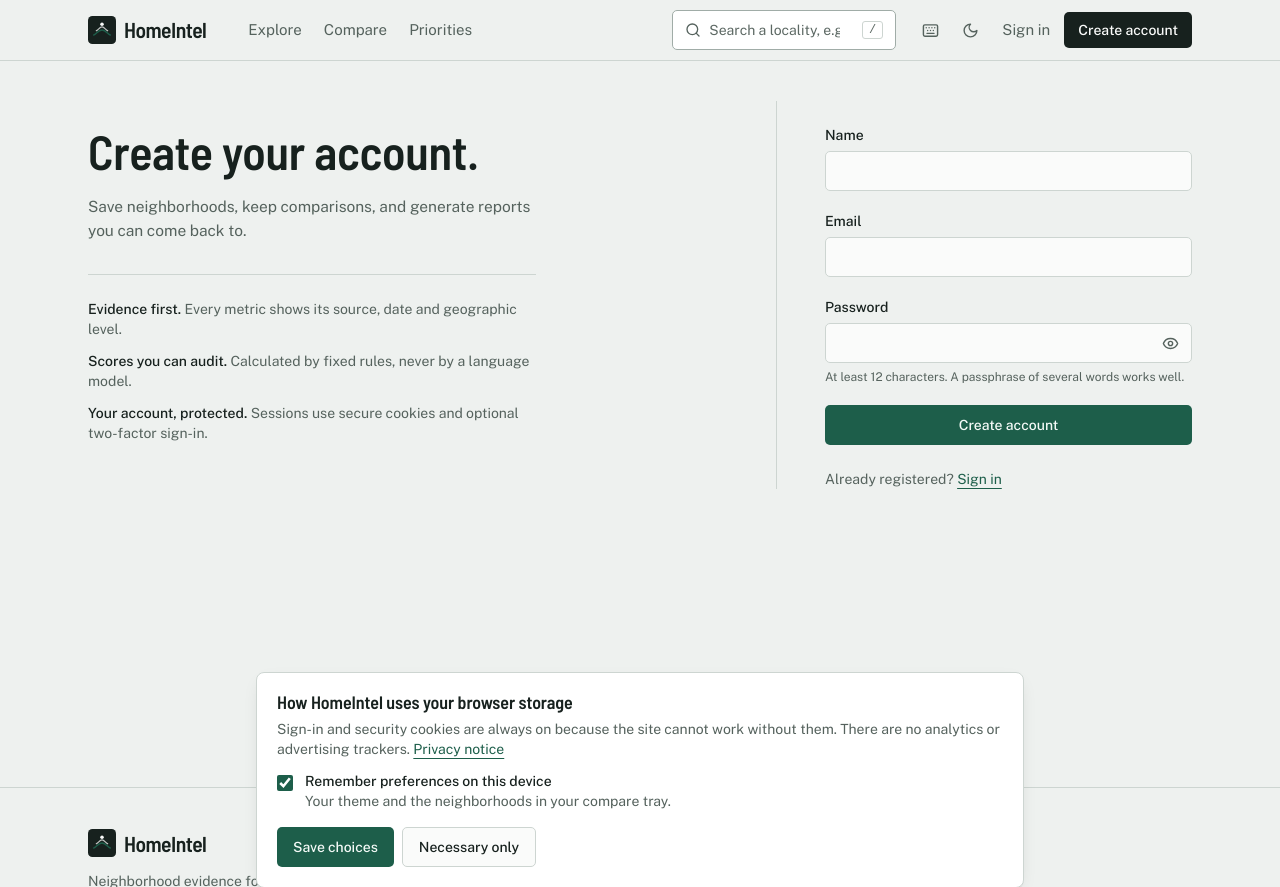
Test: routing › /register renders its form and links to /login within the page
expect the form named "create account" is shown: met, box [825,125,1192,445]
Click the link "Sign in" next to "Already registered?": coordinates (979, 479) [957,471,1002,487]
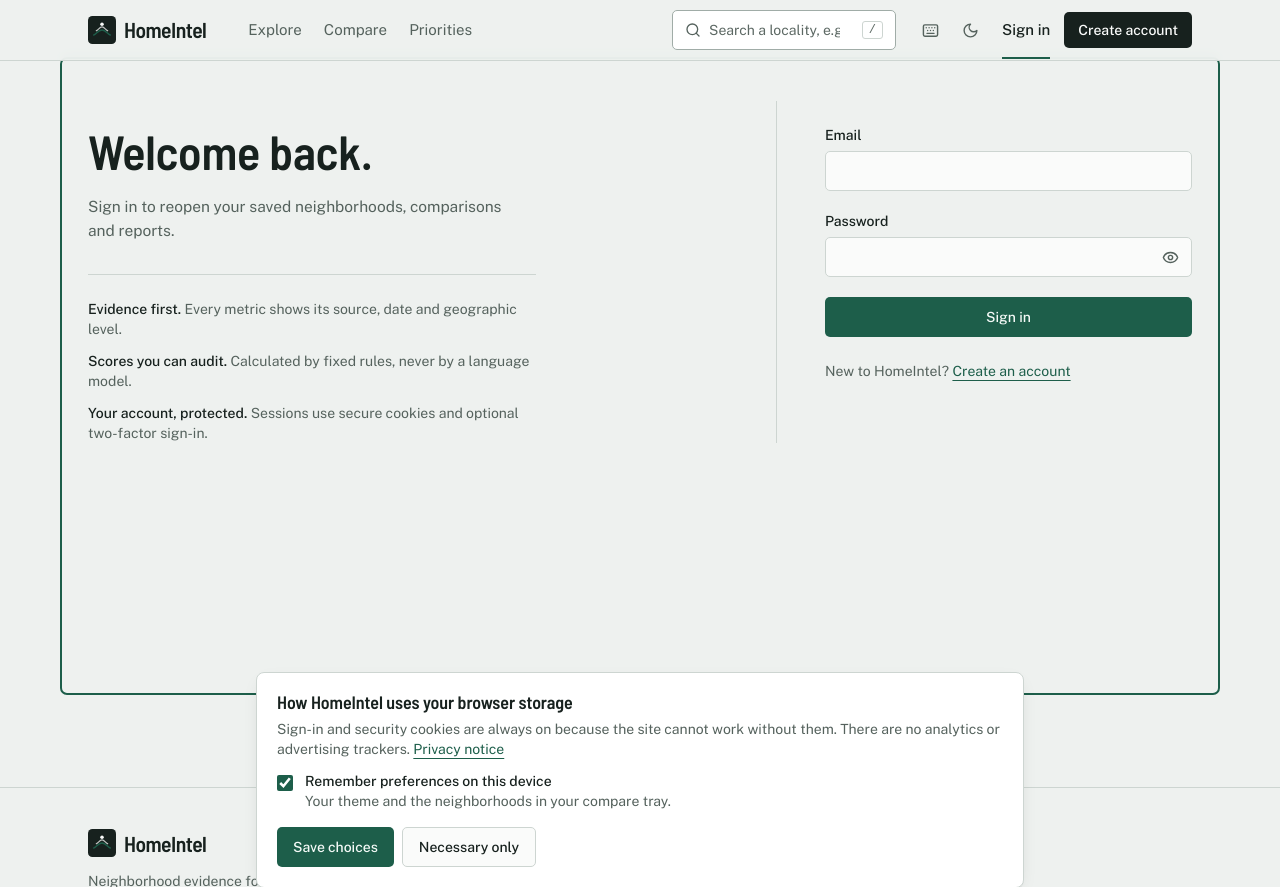
expect the form "Email Password Sign in" is shown: met, box [825,125,1192,337]
